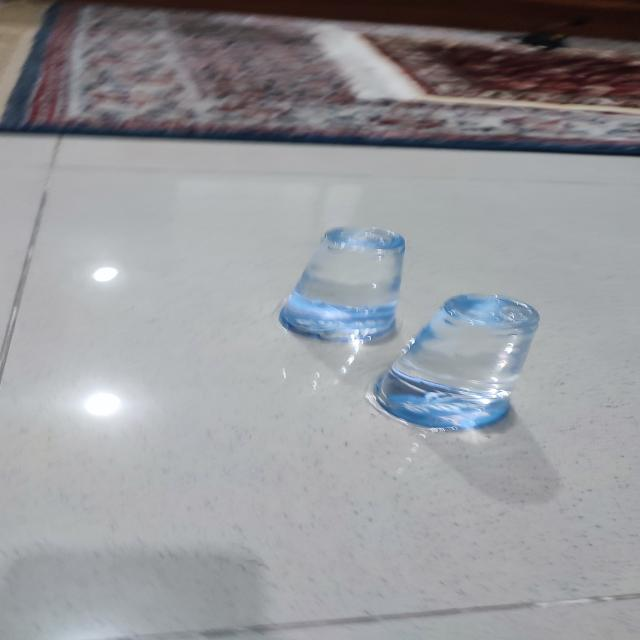air gelas: (357, 285, 549, 439), (273, 223, 409, 353)
